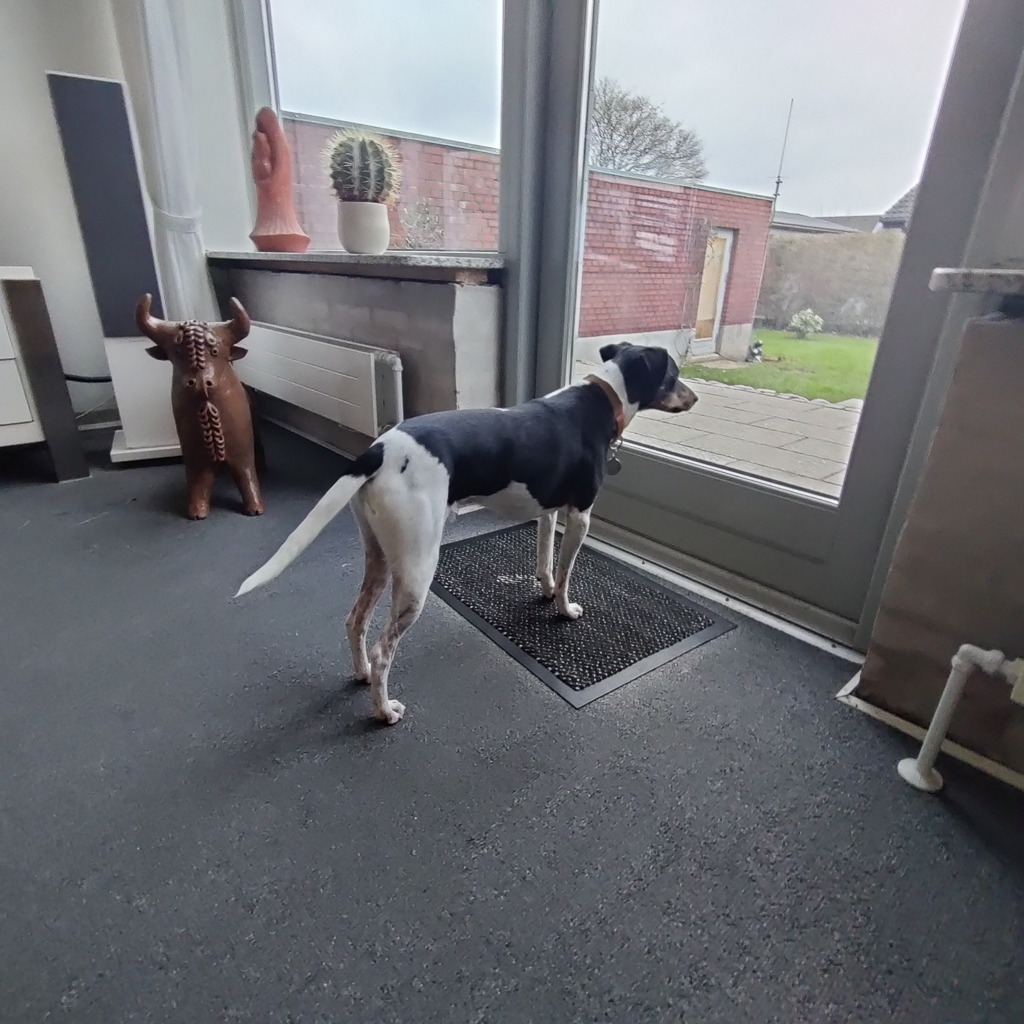Cattle: (120, 276, 296, 530)
Dog: (217, 328, 713, 745)
Humanoid: (230, 104, 316, 248), (739, 336, 768, 367)
